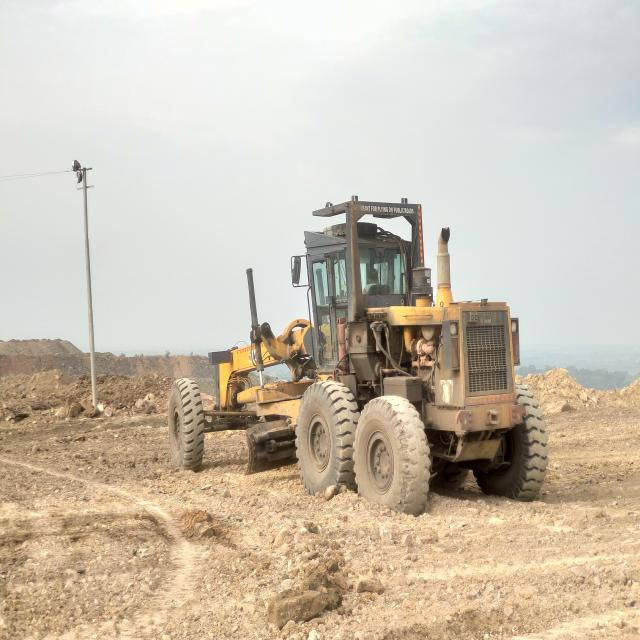buldozerpayloadergrader: (169, 198, 549, 513)
